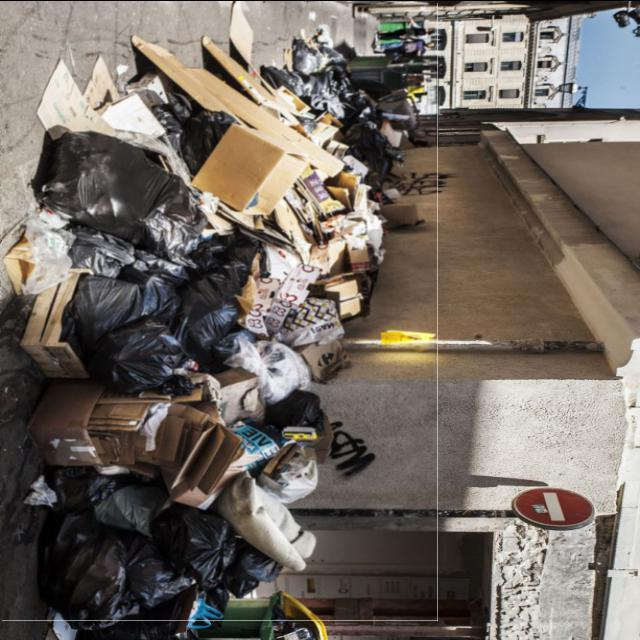Trashbag: (48, 132, 174, 236), (38, 520, 168, 618), (72, 276, 176, 393), (83, 463, 174, 527), (64, 228, 155, 290), (183, 275, 250, 350), (160, 508, 236, 574), (196, 222, 268, 286), (226, 546, 284, 606), (268, 388, 321, 436)
